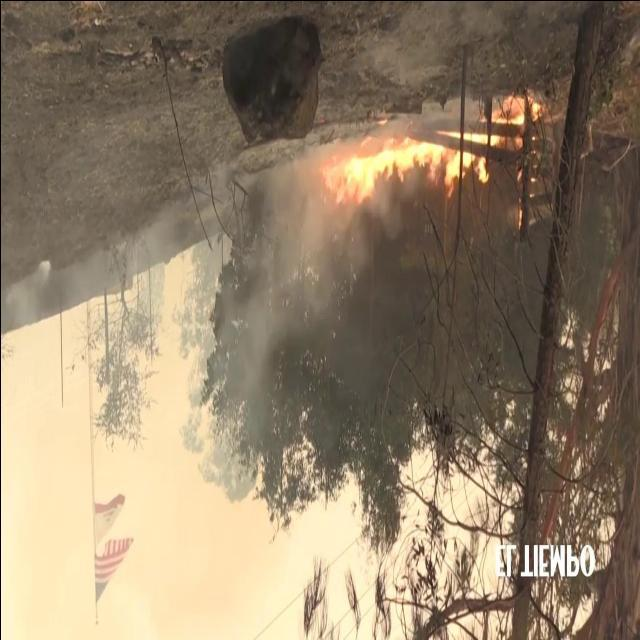Fire: (323, 98, 545, 209)
